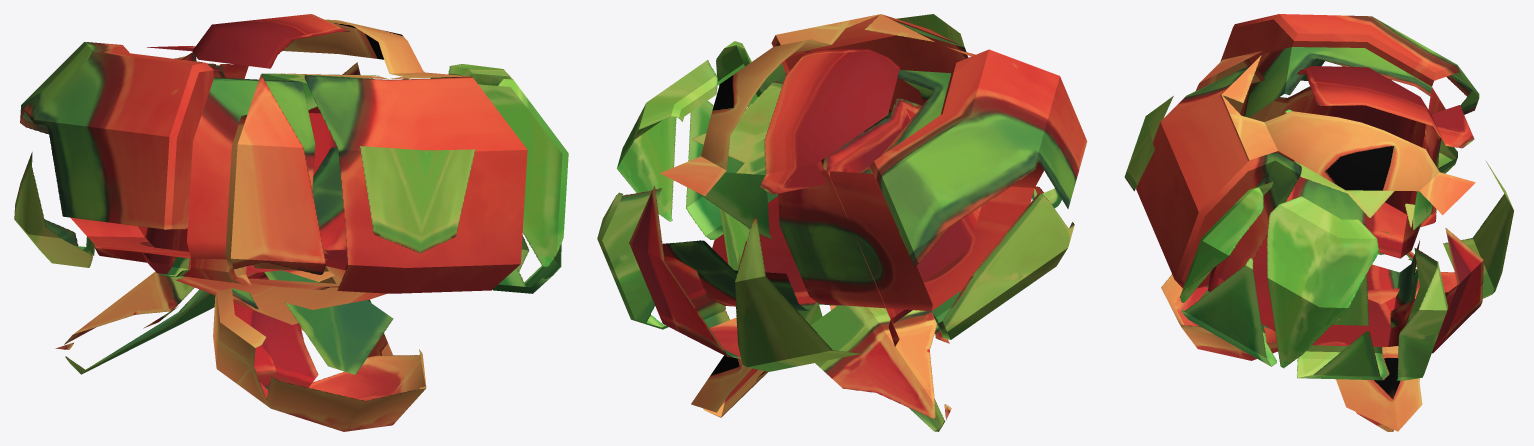
Rendered from alieno2.obj.
3 views of the same model, side by side, from view 1: azimuth 30°, elevation 25°; view 2: azimuth 150°, elevation 25°; view 3: azimuth 270°, elevation 25° (orthographic). The views are drawn at different scales.
Visible parts, largest first — view 1: jgfh_alien_02:alien_02_mat_0, nfg_alien_02:alien_02_mat_0; view 2: jgfh_alien_02:alien_02_mat_0, nfg_alien_02:alien_02_mat_0; view 3: jgfh_alien_02:alien_02_mat_0, nfg_alien_02:alien_02_mat_0.
Part boxes in pixels (box(x1,y1,x2,y2)): jgfh_alien_02:alien_02_mat_0: box(14, 14, 568, 431); nfg_alien_02:alien_02_mat_0: box(360, 146, 475, 253); jgfh_alien_02:alien_02_mat_0: box(597, 14, 1087, 431); nfg_alien_02:alien_02_mat_0: box(896, 14, 964, 46); jgfh_alien_02:alien_02_mat_0: box(1136, 14, 1513, 431); nfg_alien_02:alien_02_mat_0: box(1124, 96, 1173, 191).
Size of the model in its own units: 7.15 by 5.61 by 6.14.
